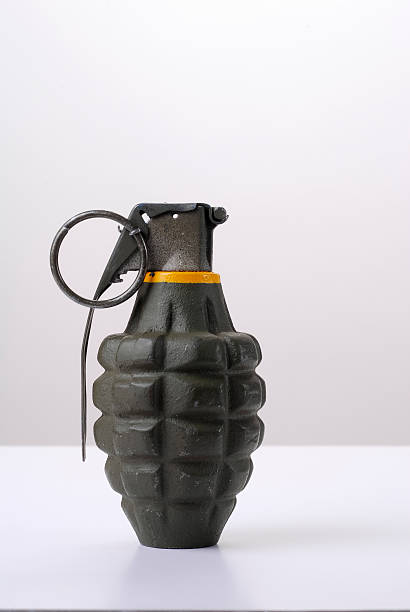e1: (50, 198, 283, 566)
